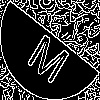M: (25, 24, 77, 86)
